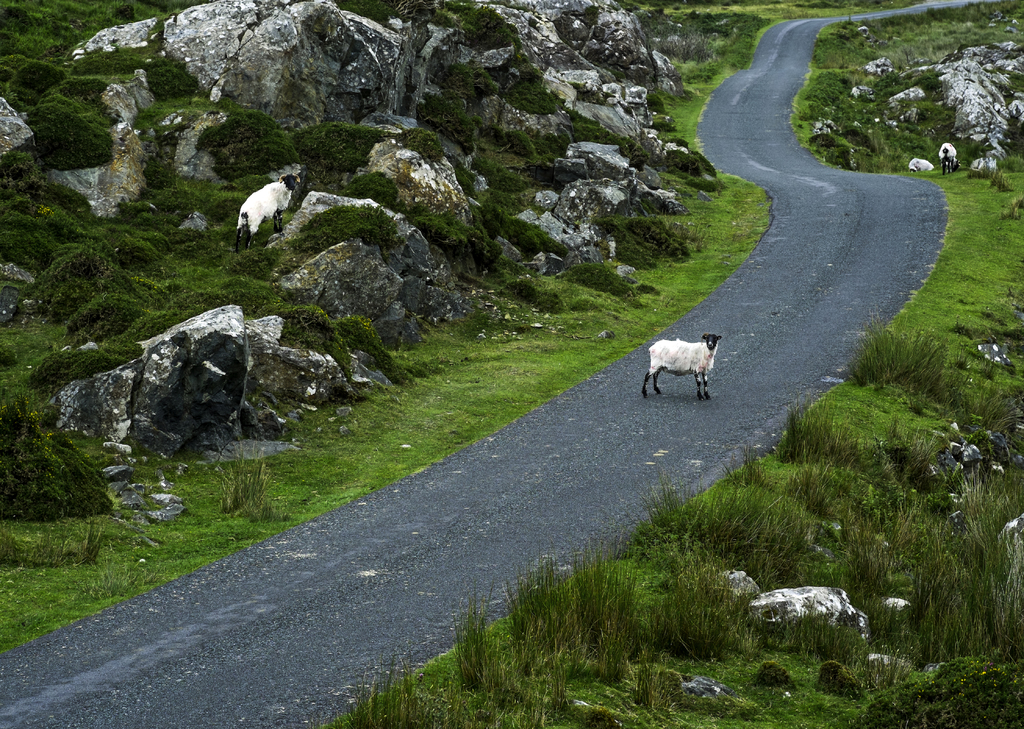sheep: (636, 335, 720, 402)
